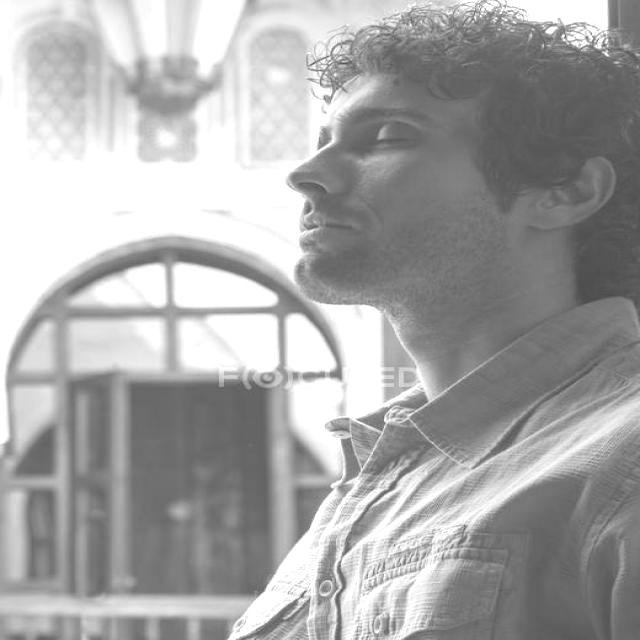real: (288, 38, 618, 304), (292, 108, 448, 158)
